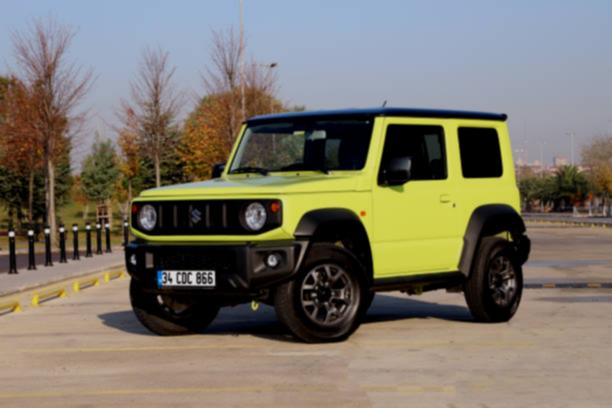suzuki: (187, 204, 206, 226)
